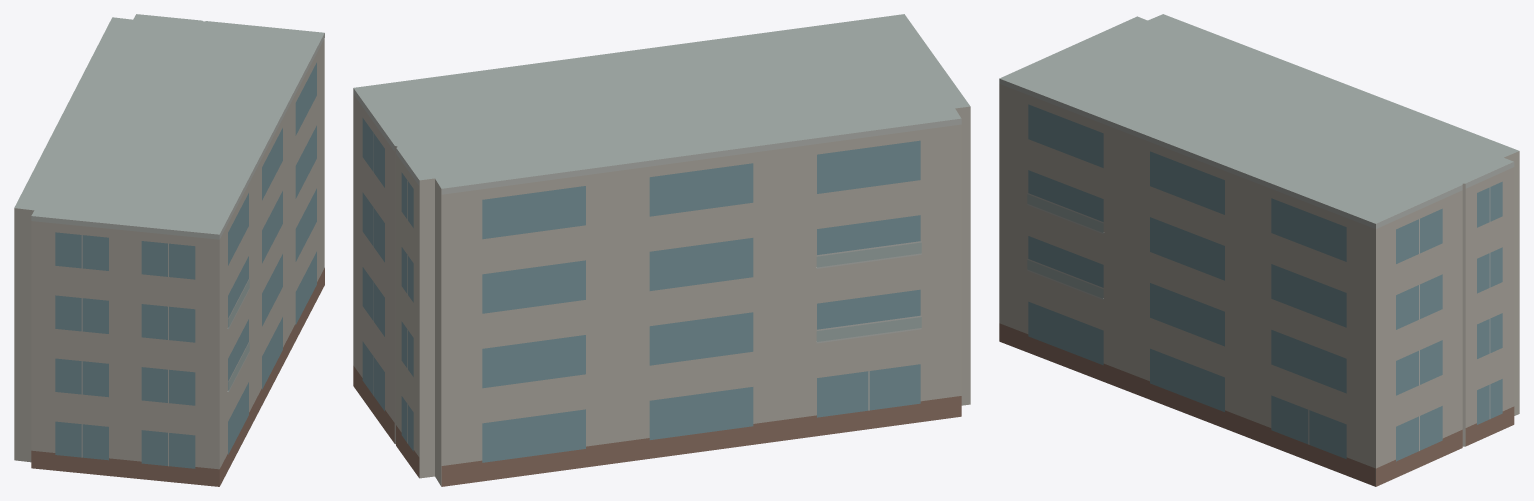
The model's file is survey-upis-32657783.glb.
3 renders of one model, left to right at view 1: azimuth 30°, elevation 25°; view 2: azimuth 150°, elevation 25°; view 3: azimuth 270°, elevation 25°, orthographic. The views are drawn at different scales.
Visible parts, largest first — view 1: survey-upis-32657783.tmp; view 2: survey-upis-32657783.tmp; view 3: survey-upis-32657783.tmp.
Part boxes in pixels (box(x1,y1,x2,y2)): survey-upis-32657783.tmp: box(14, 14, 324, 486); survey-upis-32657783.tmp: box(353, 14, 970, 486); survey-upis-32657783.tmp: box(999, 14, 1519, 486).
Size of the model in its own units: 20.9 by 12.2 by 21.89.
